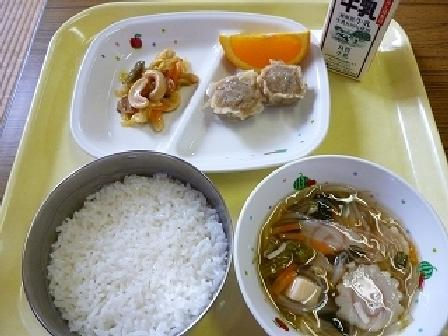Citrus: (212, 23, 310, 69)
Milk: (307, 0, 407, 76)
Rice: (25, 153, 236, 335)
Soups: (241, 170, 447, 335)
cooked food based on meat: (200, 63, 316, 124)
salad with sauce: (104, 39, 199, 132)
